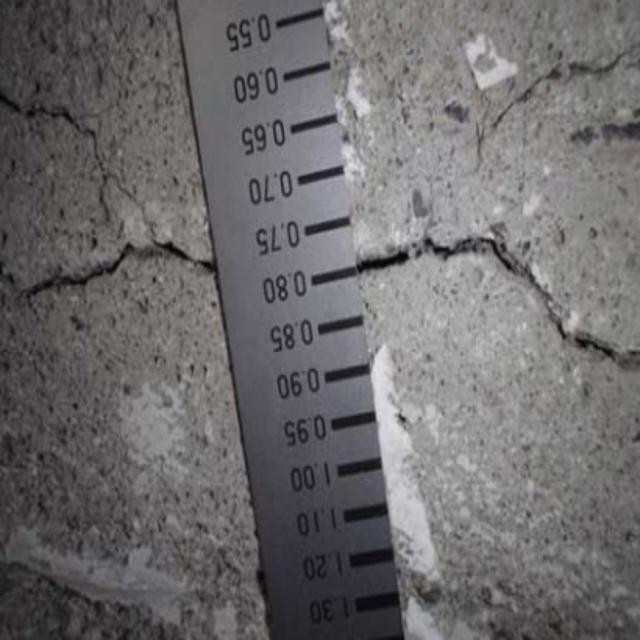crack: (361, 236, 640, 376), (7, 220, 212, 310), (6, 82, 141, 205)
